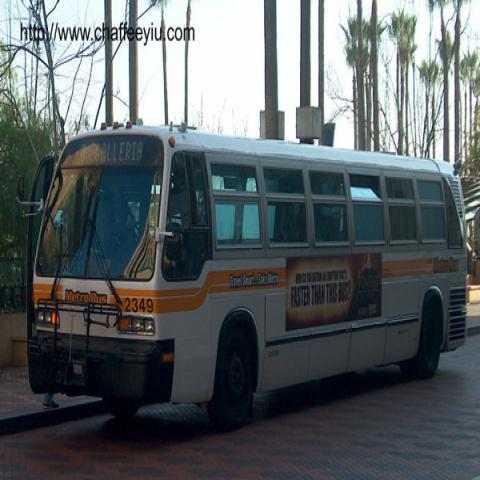bus: (17, 116, 467, 434)
